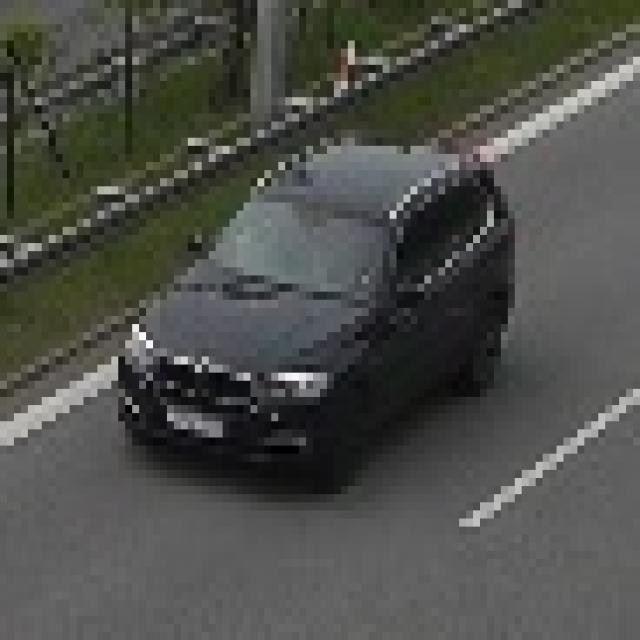SUV: (125, 163, 510, 429)
